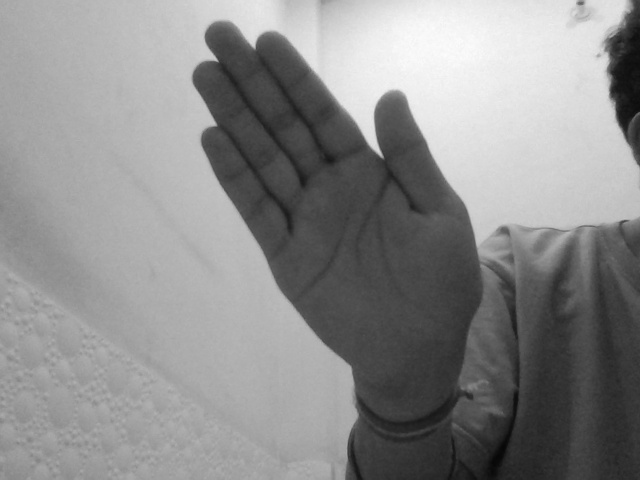Hello: (189, 18, 486, 393)
